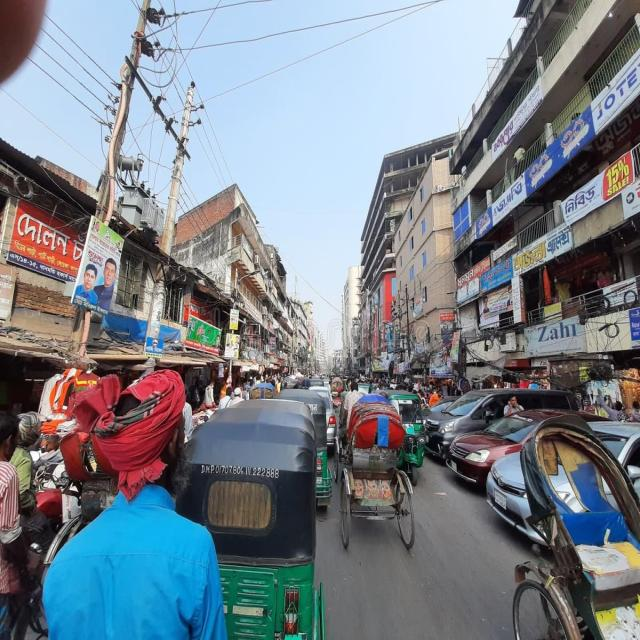CNG: (174, 398, 326, 640)
Rickshaw: (512, 408, 640, 640), (340, 394, 418, 555)
